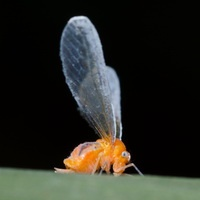insect: (55, 16, 142, 174)
